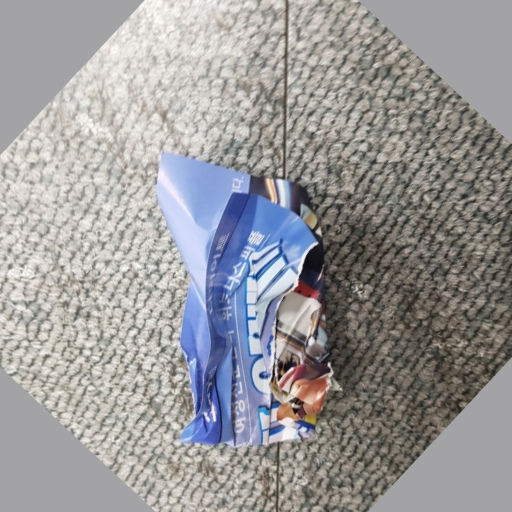Paper_3: (137, 144, 354, 462)
